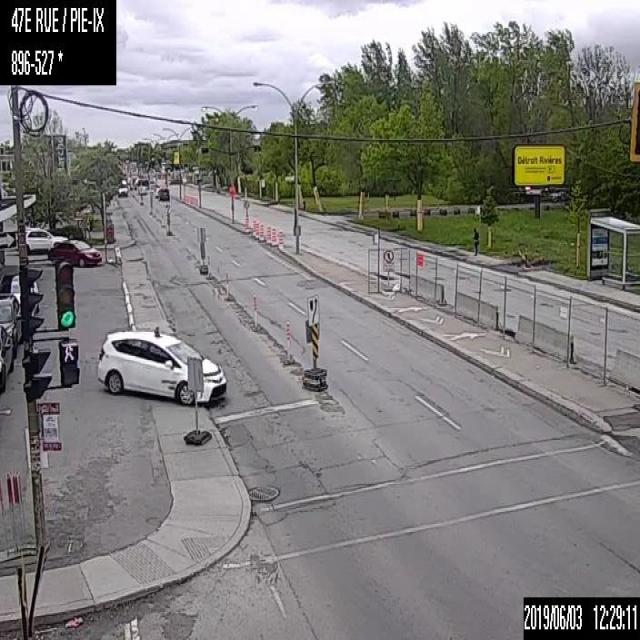construction: (285, 318, 291, 362), (253, 294, 257, 330), (252, 220, 258, 238), (258, 222, 263, 240), (266, 225, 271, 243), (278, 230, 283, 248), (271, 227, 276, 244), (226, 279, 229, 300)
pedestrian: (472, 227, 479, 254)
vehicle: (95, 328, 226, 405), (0, 274, 39, 318), (48, 237, 102, 268), (24, 225, 74, 254), (0, 293, 21, 358), (0, 322, 13, 390), (116, 178, 129, 198), (157, 186, 169, 201)
